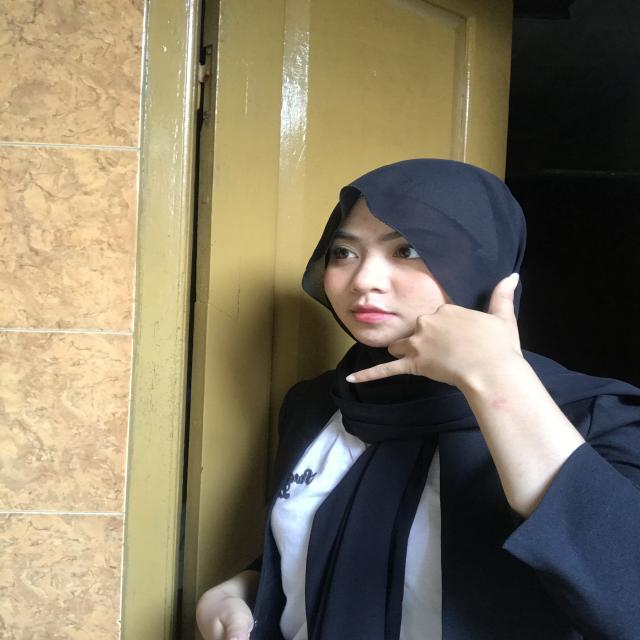telpon: (326, 261, 554, 394)
